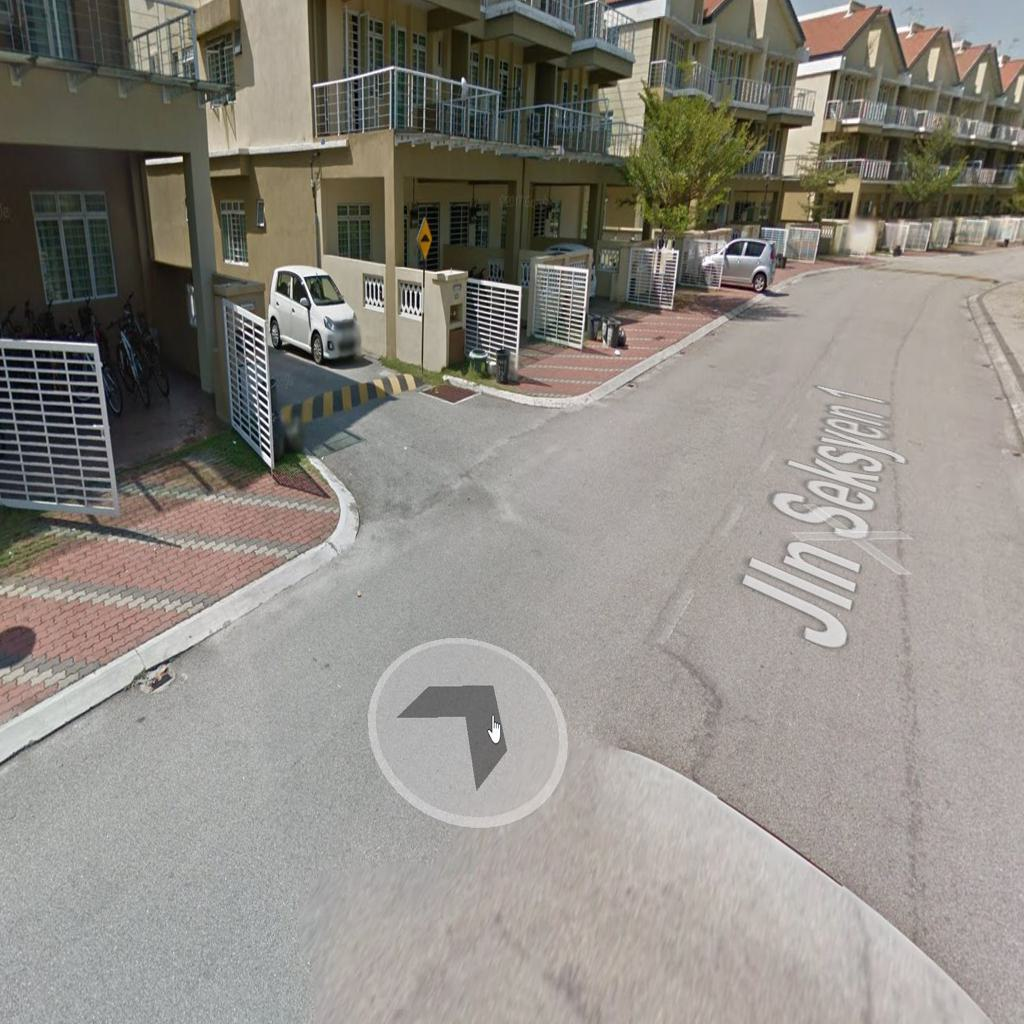Junction: (268, 299, 629, 595)
